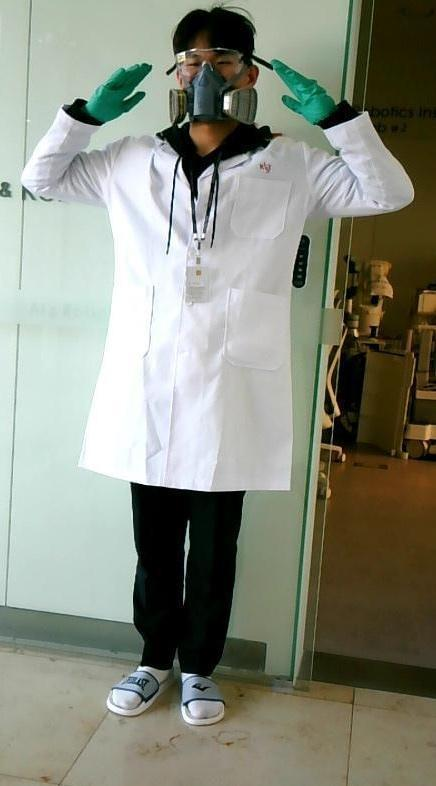lab_coat: (81, 139, 314, 487)
